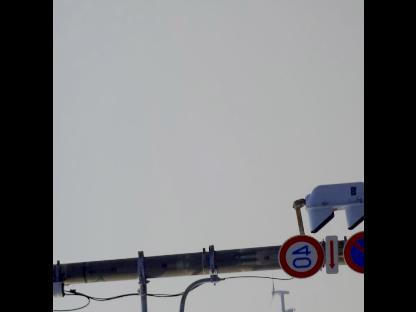Tornado: (268, 273, 295, 311)
